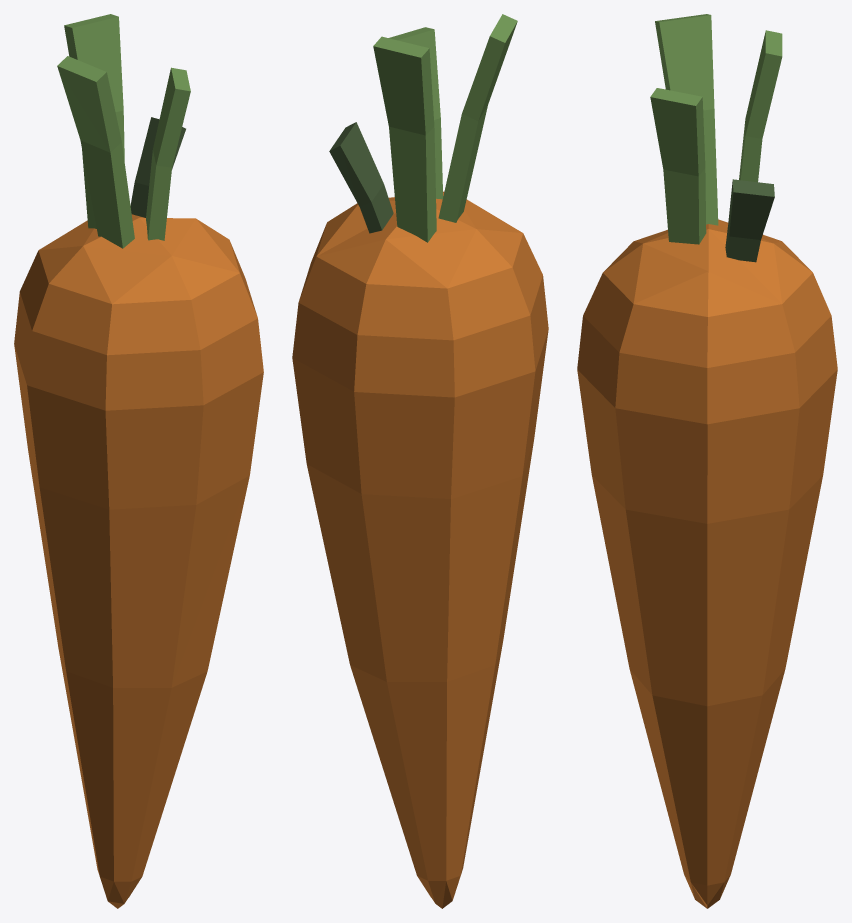
File: produce_carrot.glb
The picture shows the model from 3 angles, left to right: view 1: azimuth 30°, elevation 25°; view 2: azimuth 150°, elevation 25°; view 3: azimuth 270°, elevation 25°; orthographic projection. The views are drawn at different scales.
Size of the model in its own units: 0.2713 by 1 by 0.2713.
